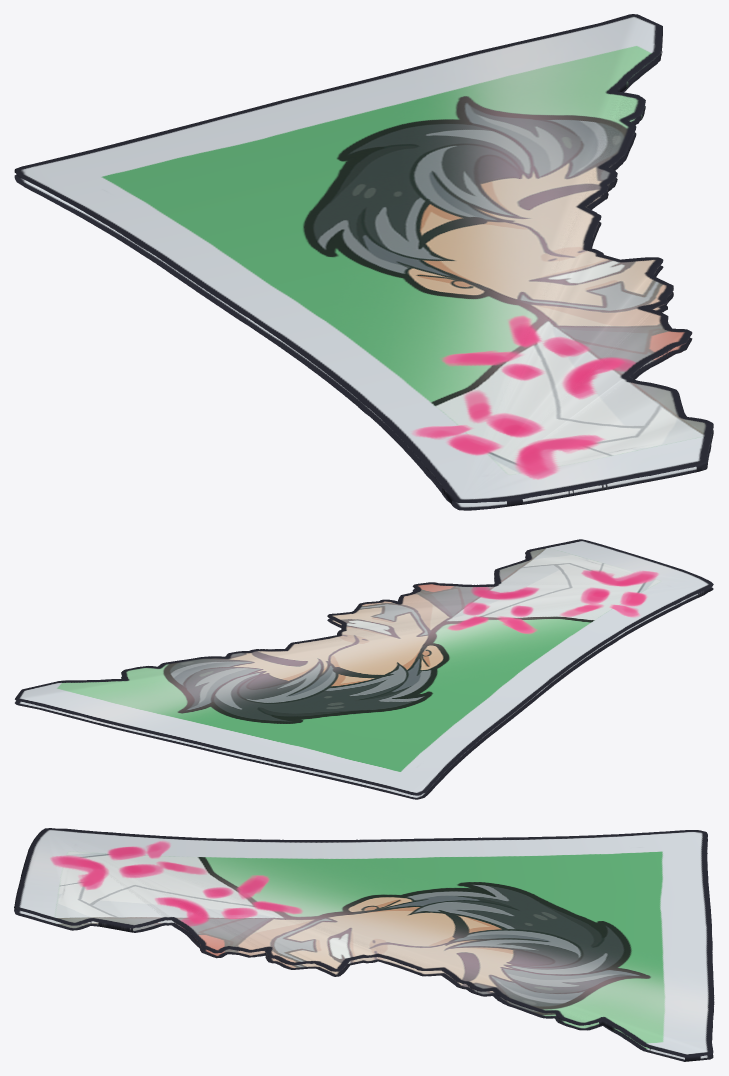
Rendered from Foto_DomSalvador.fbx.
3 renders of one model, top to bottom at view 1: azimuth 30°, elevation 25°; view 2: azimuth 150°, elevation 25°; view 3: azimuth 270°, elevation 25°, orthographic. The views are drawn at different scales.
Parts seen in each view (by area): view 1: Plane; view 2: Plane; view 3: Plane.
Part boxes in pixels (left/top/right/bottom): Plane: left=14, top=14, right=713, bottom=510; Plane: left=15, top=539, right=713, bottom=799; Plane: left=14, top=828, right=714, bottom=1061.
Bounding box in the file's own units: 102 × 1.17 × 131.
